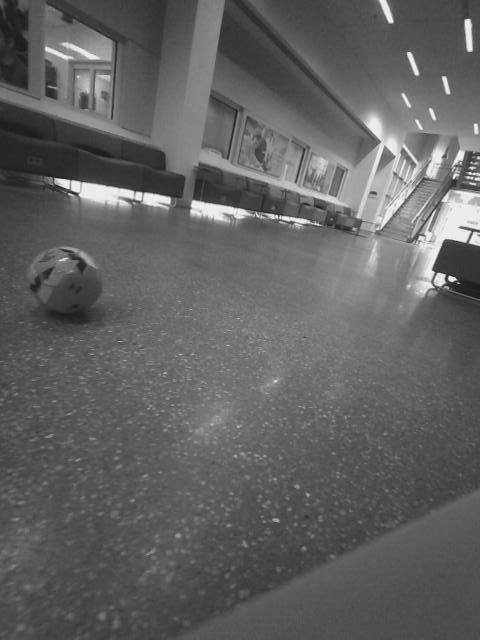ball: (296, 243, 327, 277)
